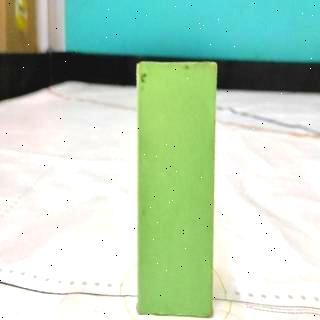greenbox: (136, 61, 216, 317)
